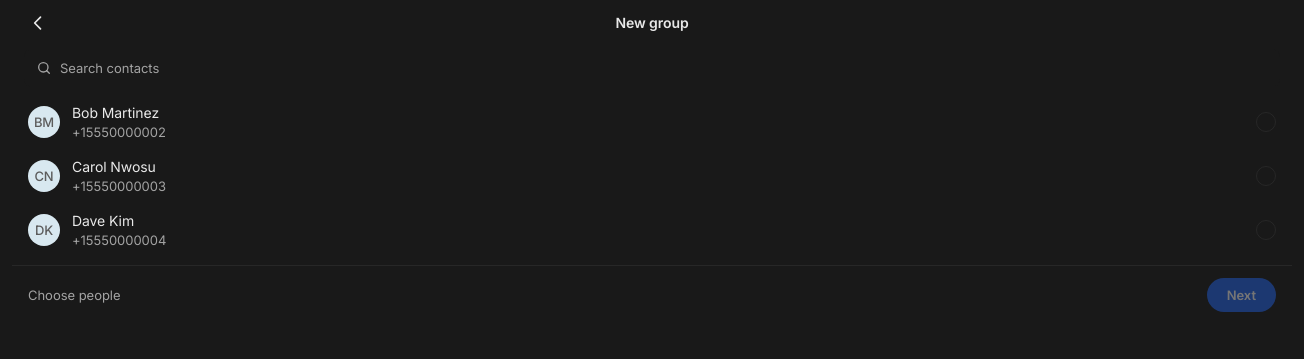
Scenario: NewGroupPanel › shows who is selected and counts them
The width and height of the screenshot is (1304, 359).
Click the text "Bob Martinez". click: [116, 112]
box: left=72, top=104, right=159, bottom=121
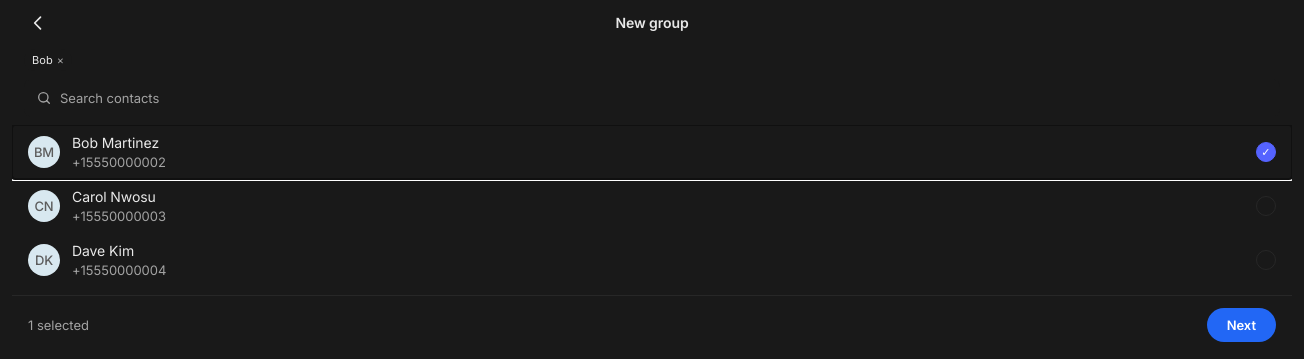
Click the text "Carol Nwosu". click: [114, 196]
box: left=72, top=188, right=156, bottom=205
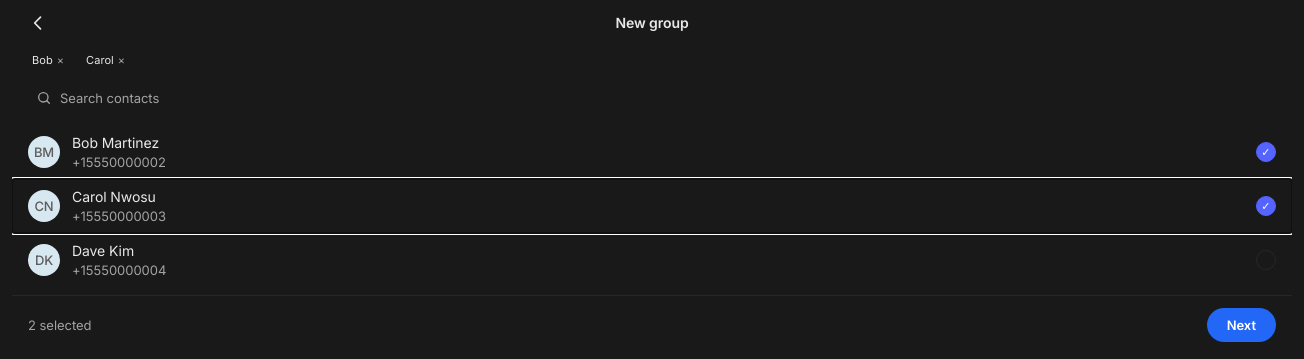
Check: the button "Next" is enabled, box left=1207, top=308, right=1276, bottom=342
Check: the number of buttons with test id "selected-pill" is 2, box left=24, top=49, right=72, bottom=71; left=78, top=49, right=133, bottom=71
